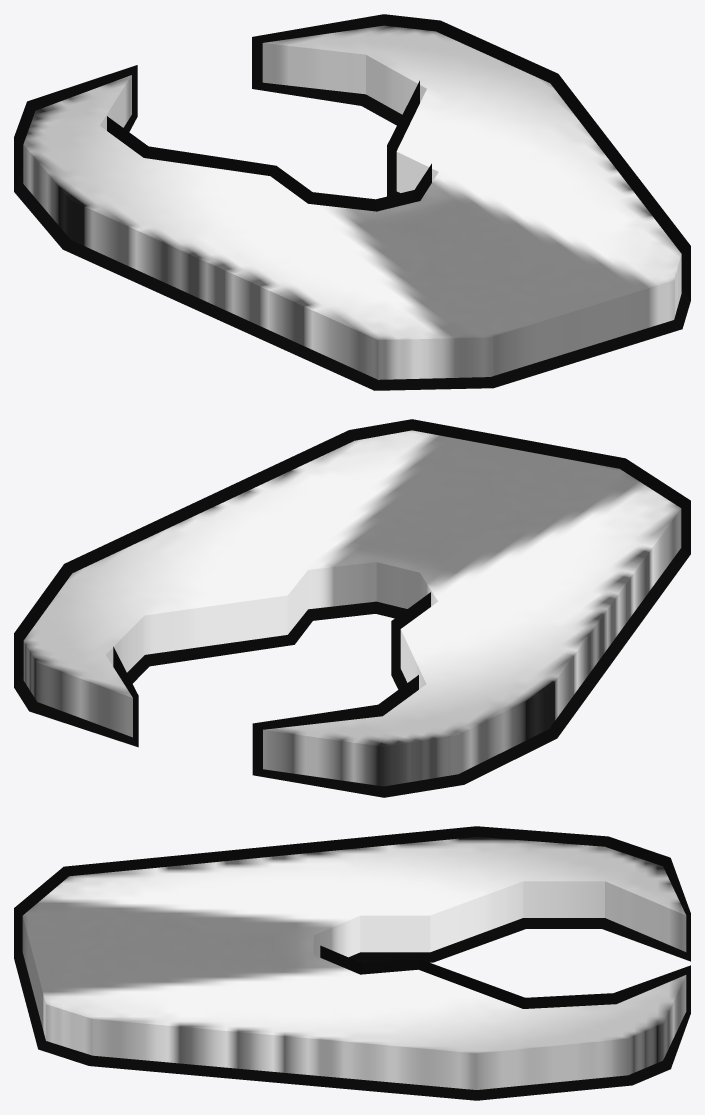
The model's file is Item_Apparel_PsyfocusShirt_Things_Pawn_Humanlike_Apparel_EltexShirt_EltexShirt_Male.glb.
3 renders of one model, top to bottom at view 1: azimuth 30°, elevation 25°; view 2: azimuth 150°, elevation 25°; view 3: azimuth 270°, elevation 25°, orthographic. The views are drawn at different scales.
Visible parts, largest first — view 1: Body, Outline; view 2: Body, Outline; view 3: Body, Outline.
Boxes of the visible parts, x1=… form: Body: x1=23, y1=25, x2=681, y2=379; Outline: x1=14, y1=14, x2=690, y2=390; Body: x1=23, y1=430, x2=681, y2=786; Outline: x1=14, y1=419, x2=690, y2=797; Body: x1=22, y1=837, x2=686, y2=1089; Outline: x1=14, y1=826, x2=690, y2=1100.
Size of the model in its own units: 0.3554 by 0.0402 by 0.4543.
2 materials, 1 textured.
